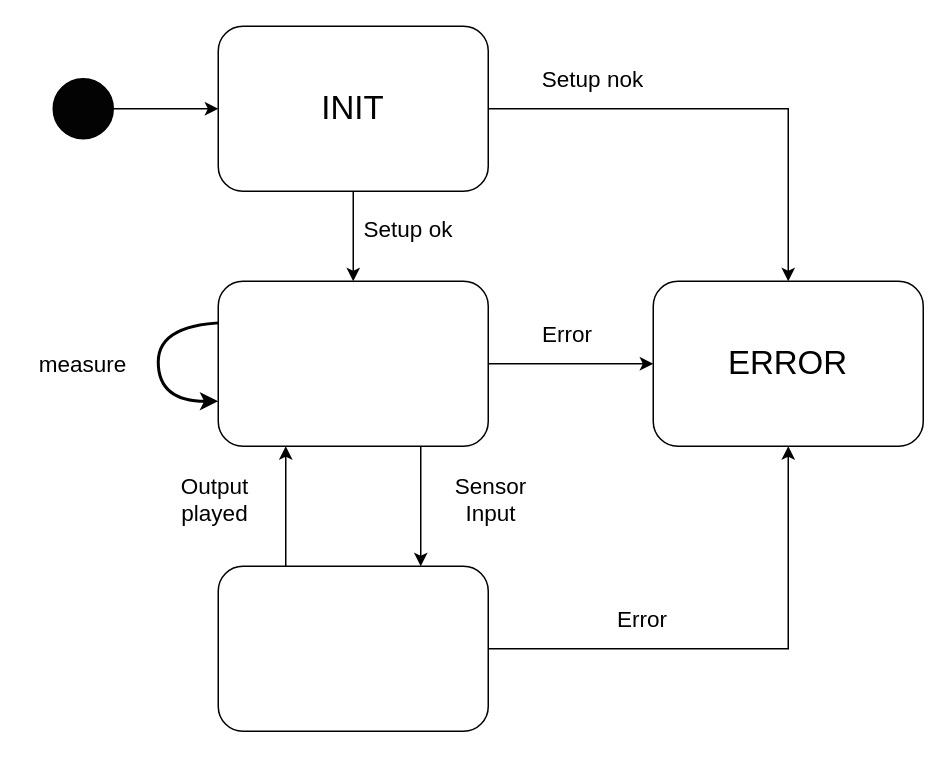
The diagram is 950 pixels wide and 758 high, and some of its shapes have lost their labels. Each missing label, with the centre of its shape:
"ACTIVE" belongs at (x=352, y=648).
"IDLE" belongs at (x=352, y=363).
